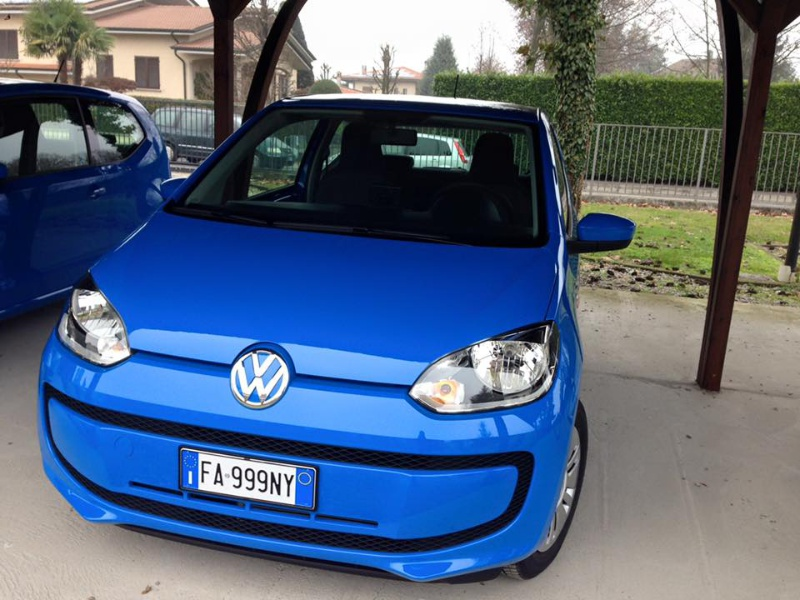licence_plate: (162, 432, 333, 533)
